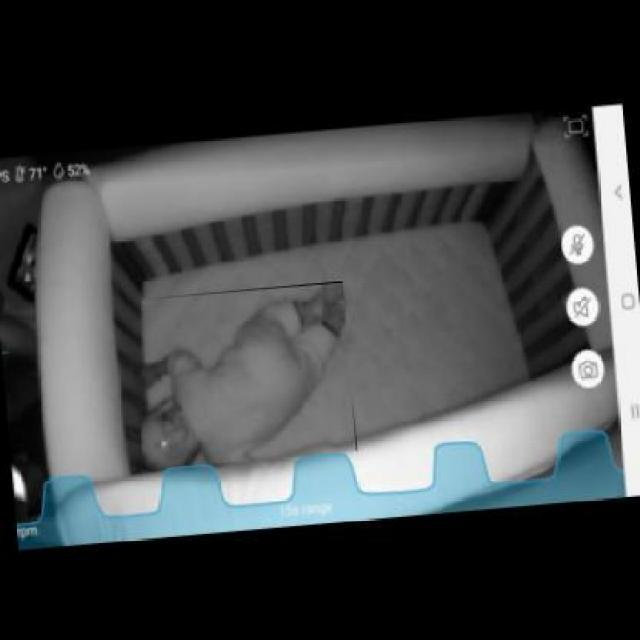child: (129, 281, 360, 472)
